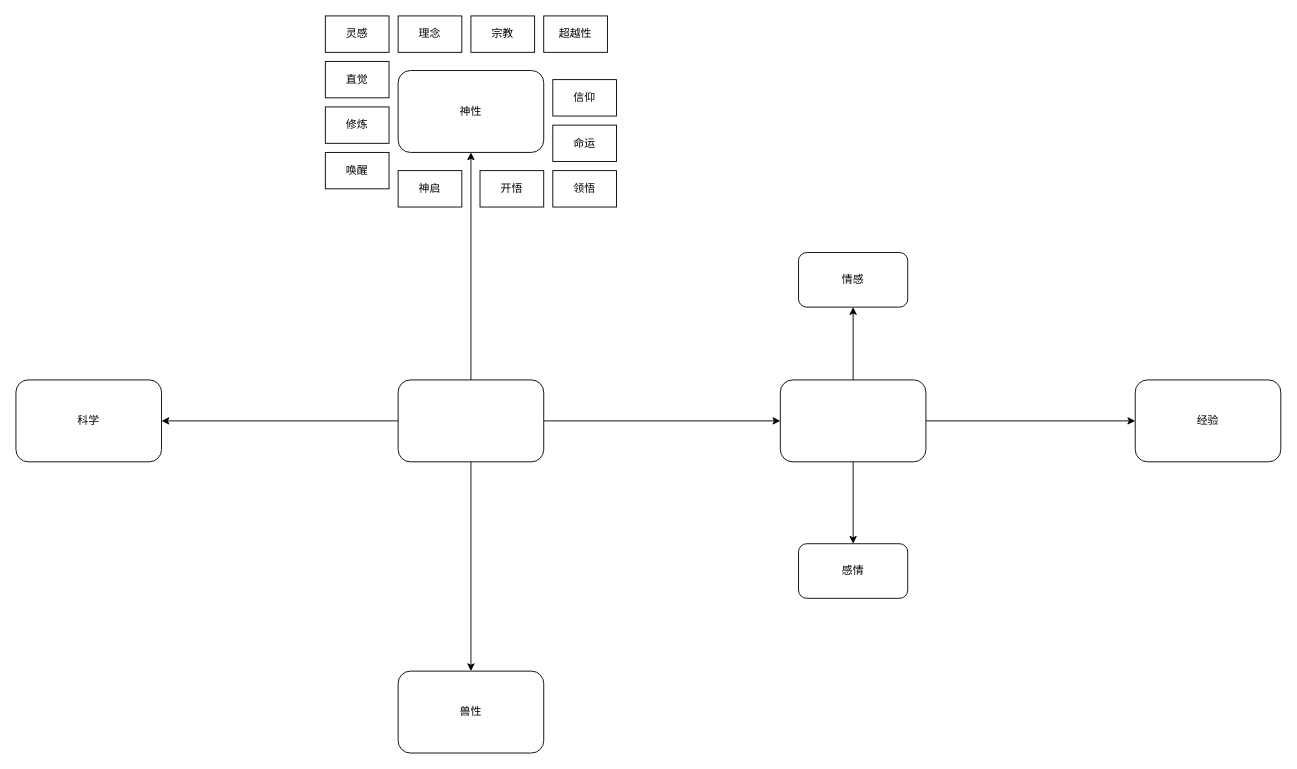
Image size: 1297x769. Some labels were removed from this diagram. Each missing label, with the centre of its shape:
"感性" belongs at point 852,420.
"理性" belongs at point 470,420.
